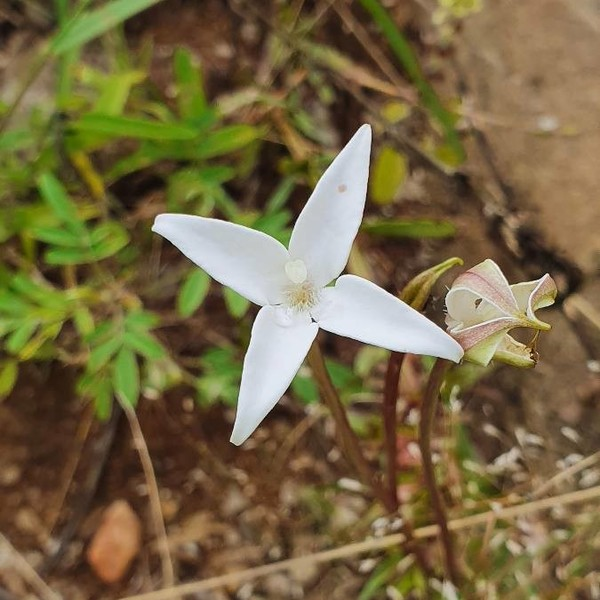obstacle: (146, 112, 553, 563), (40, 86, 198, 409)
